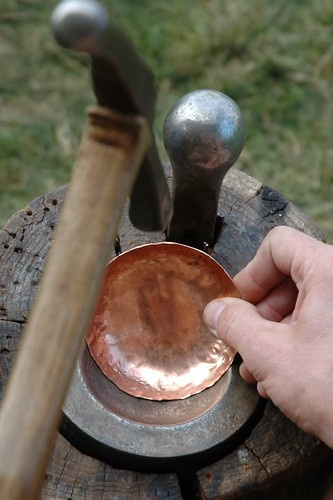hammer: (1, 1, 172, 500)
